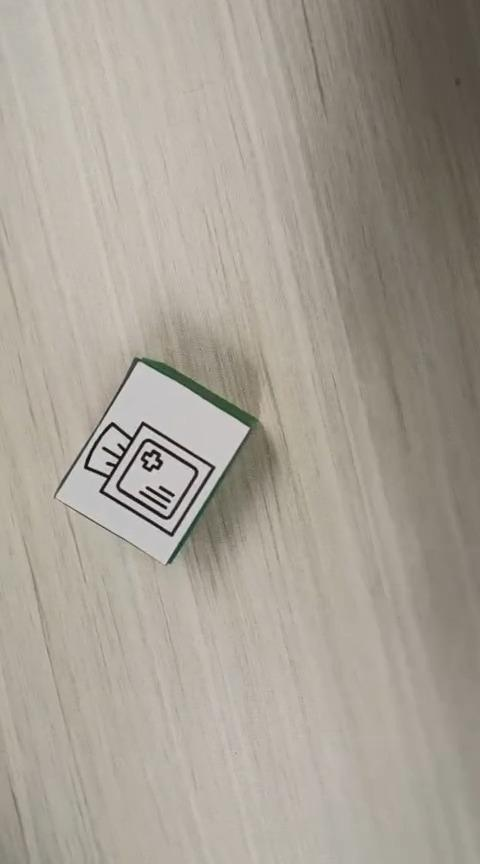Gauze: (52, 355, 259, 566)
